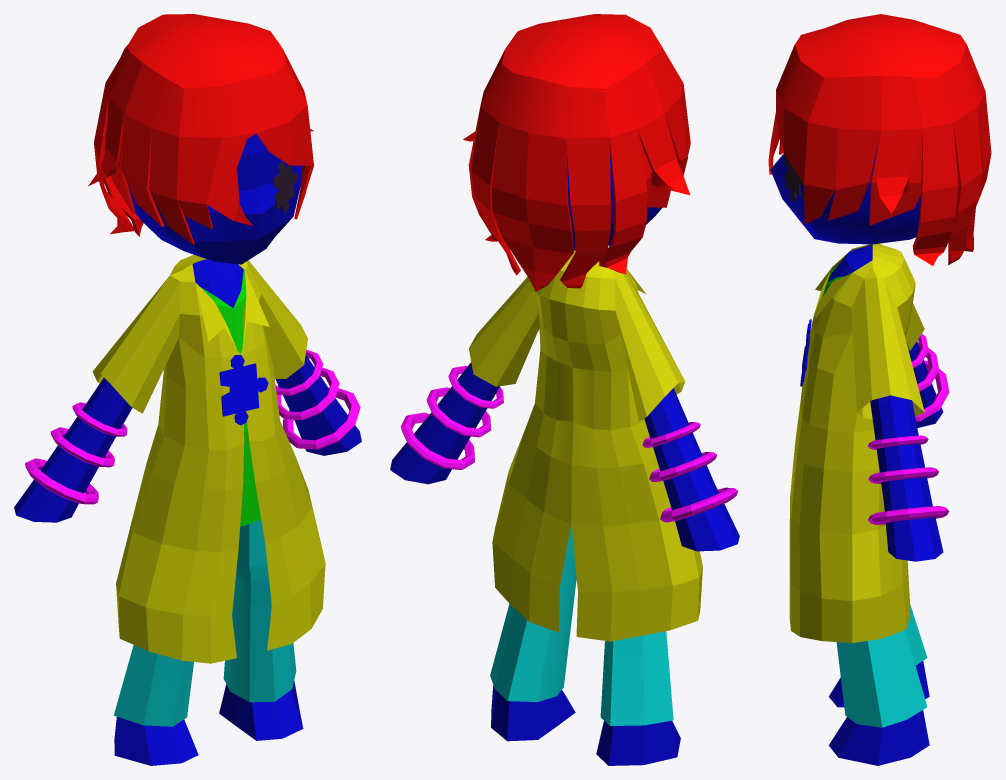
Rendered from OCD.fbx.
The picture shows the model from 3 angles, left to right: view 1: azimuth 30°, elevation 25°; view 2: azimuth 150°, elevation 25°; view 3: azimuth 270°, elevation 25°; orthographic projection.
Parts seen in each view (by area): view 1: pCube4; view 2: pCube4; view 3: pCube4.
Part boxes in pixels (box(x1,y1,x2,y2)): pCube4: box(14, 14, 361, 765); pCube4: box(390, 14, 739, 765); pCube4: box(768, 14, 991, 765).
Size of the model in its own units: 215 by 419 by 122.
